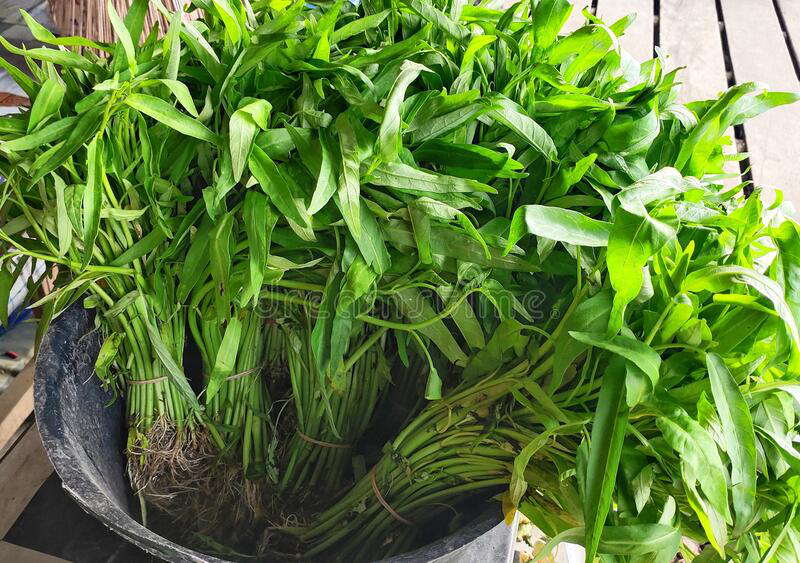Kangkung: (204, 39, 502, 348)
